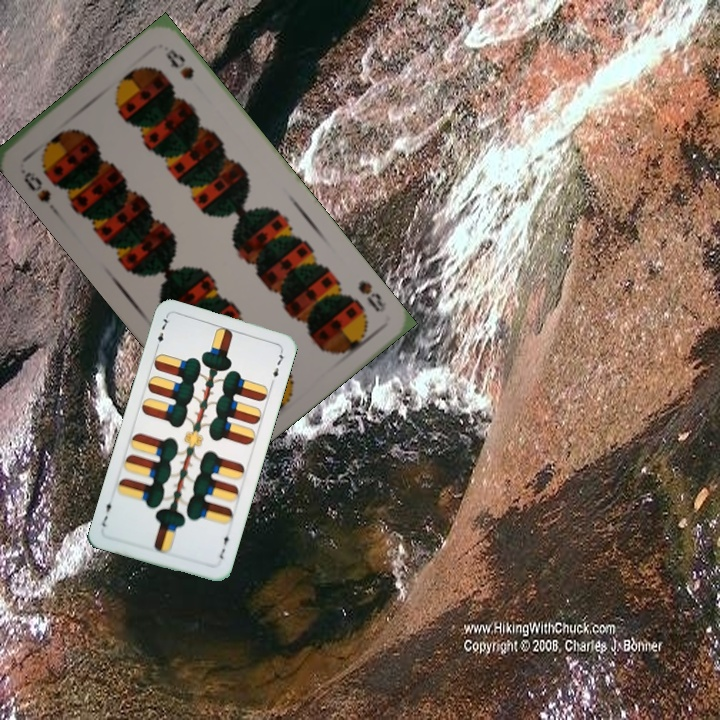E7: (151, 313, 173, 352), (215, 528, 233, 562)
S8: (16, 165, 54, 205), (353, 276, 388, 315)
